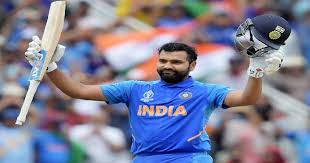Indian_Male: (146, 42, 188, 77)
